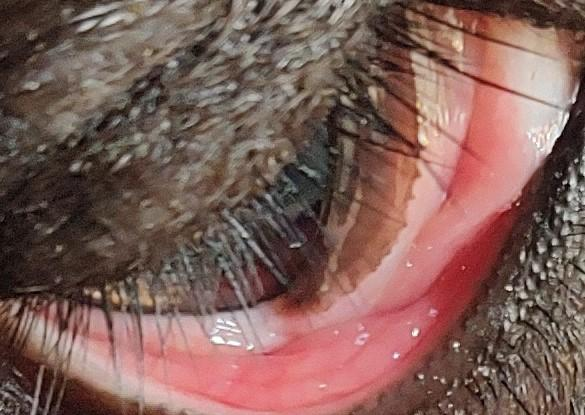eye_membrane: (0, 2, 584, 413)
